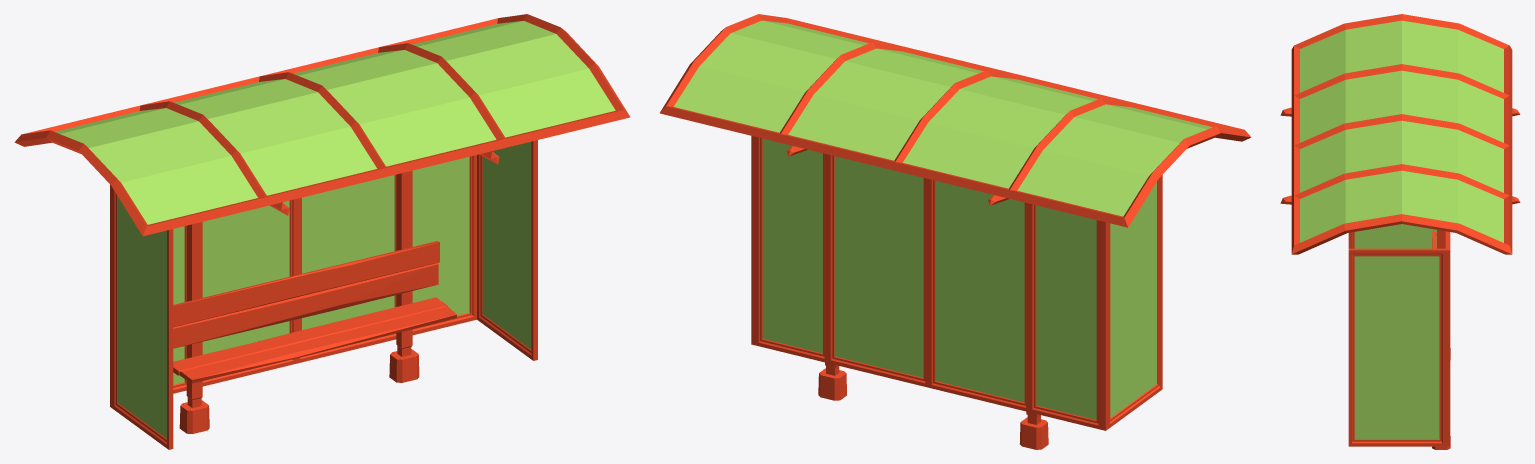
File: SM_Bus_Stop_B_City.fbx
The picture shows the model from 3 angles, left to right: view 1: azimuth 30°, elevation 25°; view 2: azimuth 150°, elevation 25°; view 3: azimuth 270°, elevation 25°; orthographic projection. The views are drawn at different scales.
Visible parts, largest first — view 1: SM_Bus_Stop_B_City; view 2: SM_Bus_Stop_B_City; view 3: SM_Bus_Stop_B_City.
Boxes of the visible parts, bbox=[...] form: SM_Bus_Stop_B_City: bbox=[14, 14, 630, 449]; SM_Bus_Stop_B_City: bbox=[660, 14, 1251, 449]; SM_Bus_Stop_B_City: bbox=[1280, 14, 1520, 449].
Size of the model in its own units: 4.83 by 3.16 by 2.39.
